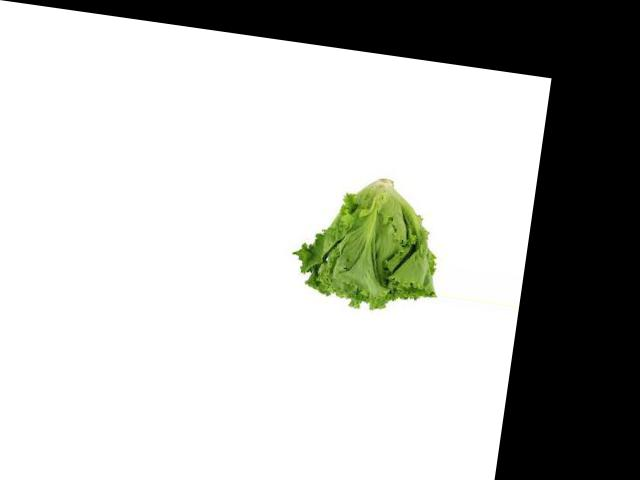lettuce: (293, 148, 454, 325)
